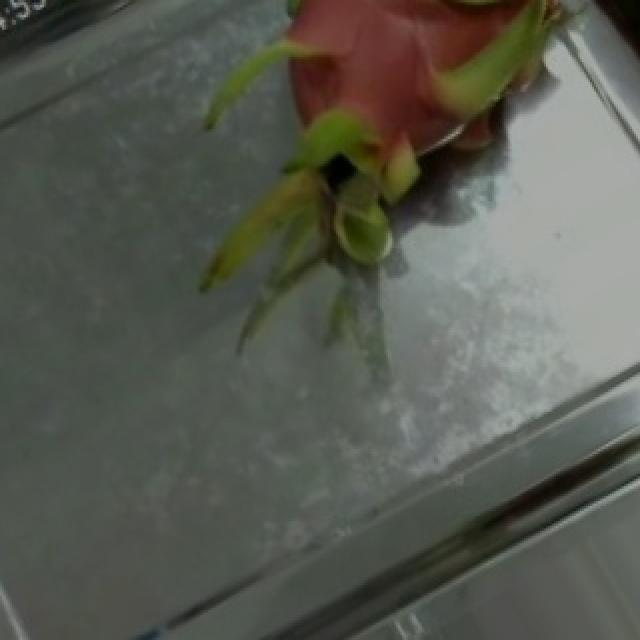fruit: (176, 0, 626, 322)
